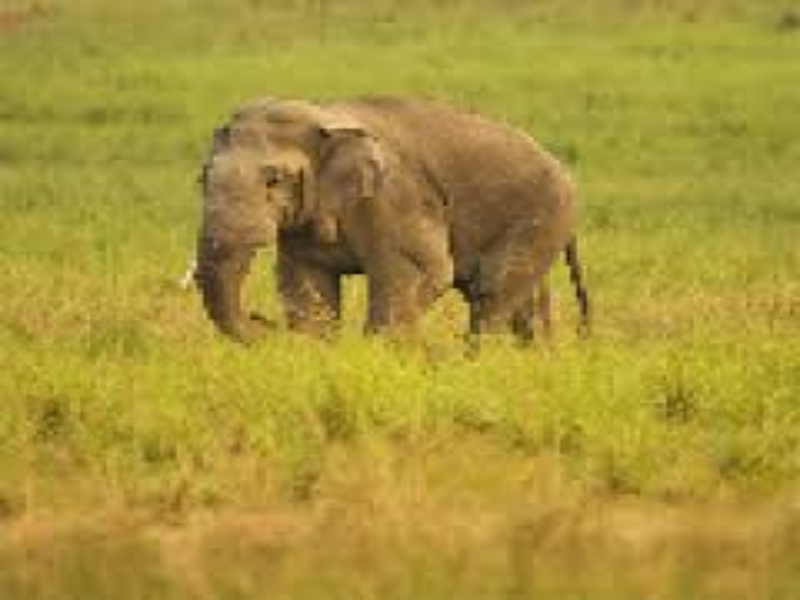elephant: (166, 78, 622, 385)
